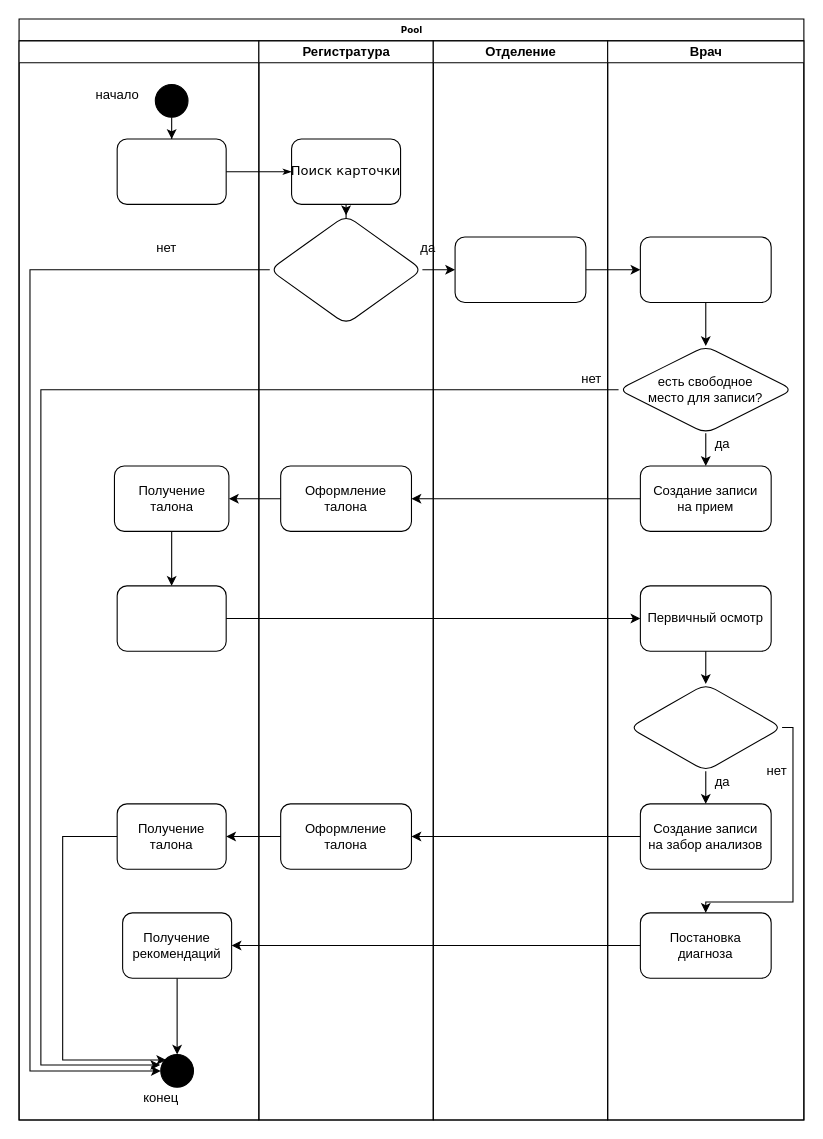
This 823x1139 diagram has some shape labels left out. Each missing label, with the box of its shape:
Ввод данных о пациетне: (116, 138, 226, 204)
Выбор врача: (639, 236, 771, 302)
Выбор отделения: (454, 236, 586, 302)
необходимо направление на анализы?: (628, 683, 782, 771)
Пациент: (18, 40, 259, 1120)
пациент приписан к полилинике?: (269, 214, 422, 324)
Поход на прием: (116, 585, 226, 651)
